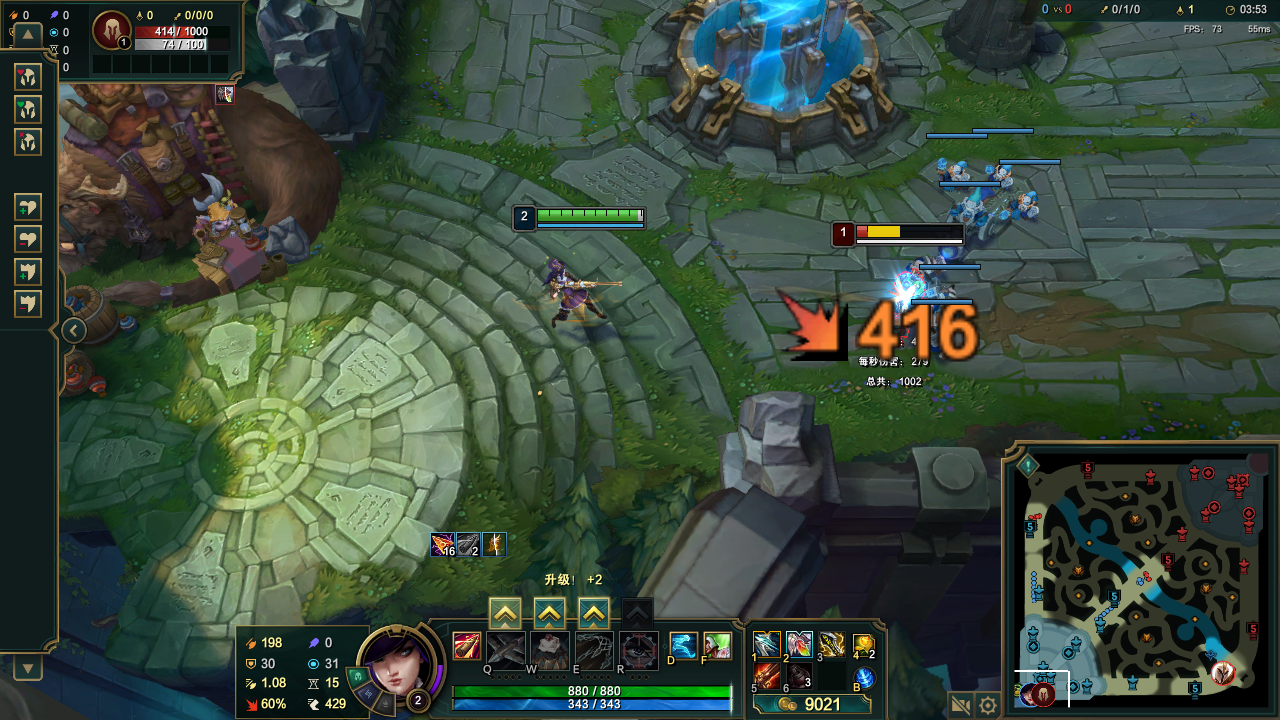DFYX: (854, 223, 962, 238)
